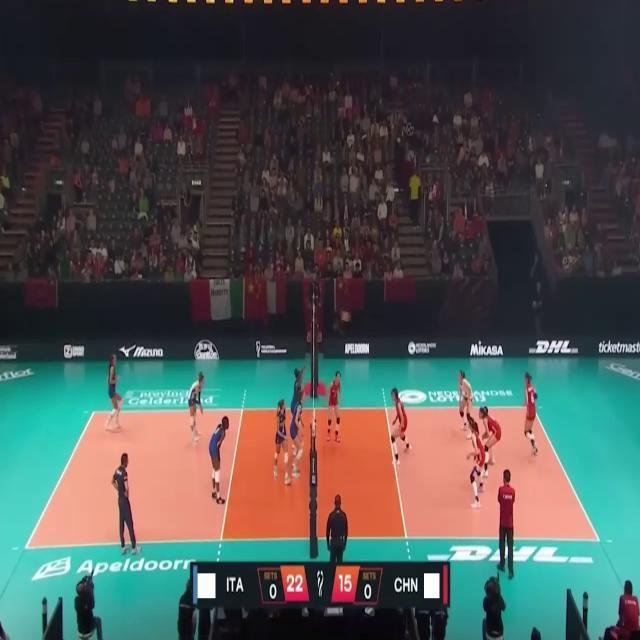volleyball: (340, 312, 353, 322)
